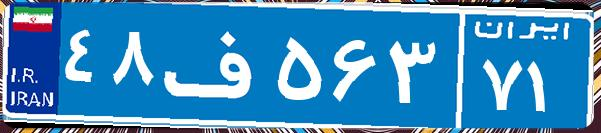1: (525, 38, 570, 115)
3: (385, 28, 445, 110)
4: (57, 26, 110, 107)
5: (273, 28, 330, 110)
6: (330, 28, 385, 110)
7: (475, 38, 525, 113)
8: (110, 28, 158, 105)
ف: (158, 15, 273, 115)
